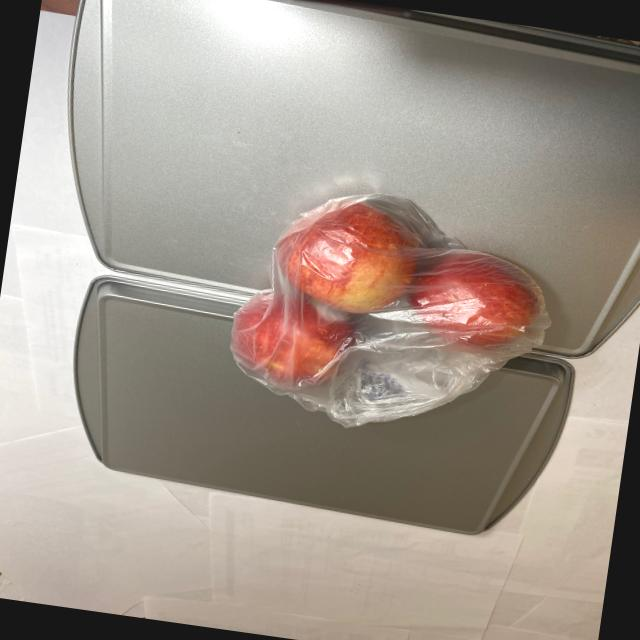apple: (216, 184, 558, 432)
